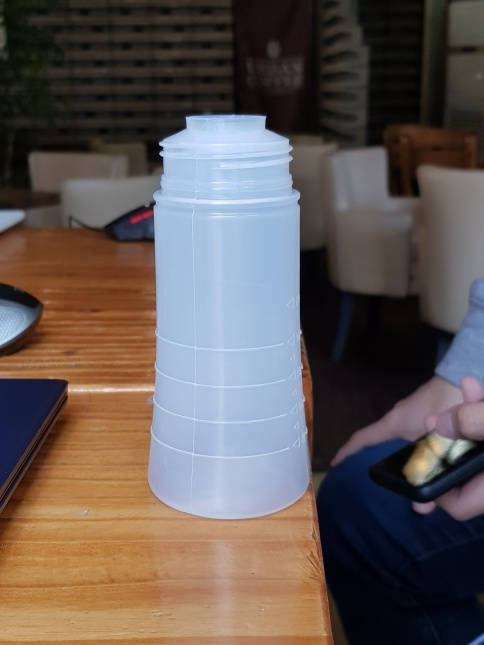Plastic: (137, 108, 318, 526)
